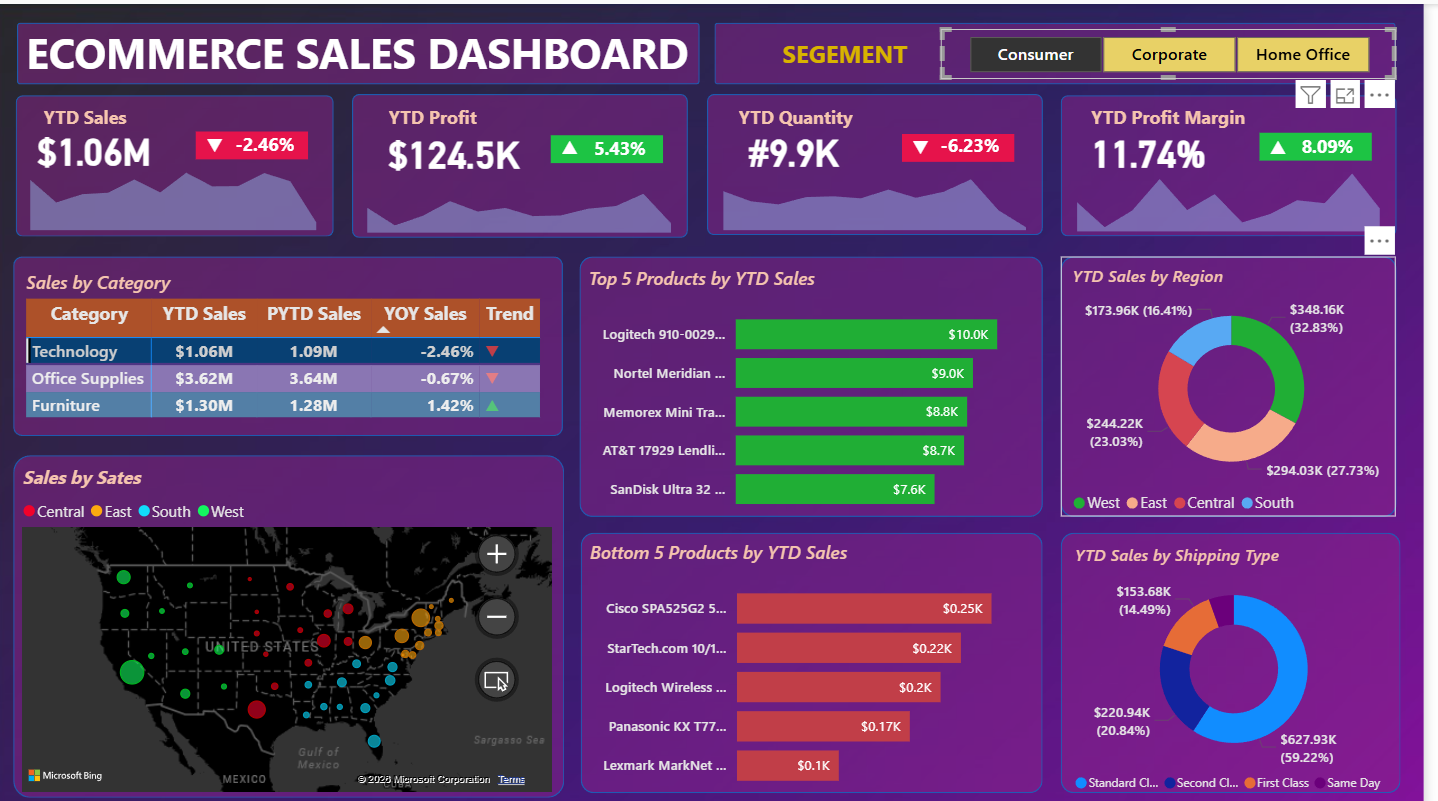

Layout of this report page (visuals, bound fields, positions):
{"tool":"powerbi","page":{"name":"Page 1","canvas":[1280,720],"ordinal":0},"visuals":[{"type":"shape","box":[26.9,17.1,607.9,54.9],"z":0},{"type":"textbox","box":[30.5,13.4,628.7,64.7],"z":1000},{"type":"shape","box":[26,81.8,283.1,126],"z":2000},{"type":"card","fields":{"Values":["ecommerce_data.YTD Sales"]},"box":[30.5,102.5,130.6,53.7],"z":3000},{"type":"areaChart","fields":{"Category":["Calendar.Month"],"Y":["Sum(ecommerce_data.sales_per_order)"]},"box":[24.4,135.5,283.2,70.8],"z":4000},{"type":"shape","box":[186,114,100,24.4],"z":5000},{"type":"card","fields":{"Values":["ecommerce_data.YOY Sales"]},"box":[209.3,114,76.7,28],"z":6000},{"type":"card","fields":{"Values":["ecommerce_data.Sales Icon"]},"box":[164.8,112.3,76.9,29.3],"z":7000},{"type":"textbox","box":[45.2,84.2,101.3,31.7],"z":8000},{"type":"shape","box":[640.9,80.6,299.1,125.7],"z":9000},{"type":"card","fields":{"Values":["ecommerce_data.YTD Concatenated Qty"]},"box":[648.2,105,141.6,52.5],"z":10000},{"type":"areaChart","fields":{"Category":["Calendar.Month"],"Y":["Sum(ecommerce_data.order_quantity)"]},"box":[640.9,135.5,299.1,70.8],"z":11000},{"type":"shape","box":[814.3,115.3,100,24.4],"z":12000},{"type":"card","fields":{"Values":["ecommerce_data.YOY Qty"]},"box":[837.4,113.5,76.9,28.1],"z":13000},{"type":"card","fields":{"Values":["ecommerce_data.Qty Icon"]},"box":[793.4,114.7,75.7,29.3],"z":14000},{"type":"textbox","box":[664.5,84.4,129,31.4],"z":15000},{"type":"shape","box":[955.8,81.8,299.1,125.7],"z":16000},{"type":"areaChart","fields":{"Category":["Calendar.Month"],"Y":["ecommerce_data.Profit Margin"]},"box":[955.8,136.7,299.1,70.8],"z":17000},{"type":"shape","box":[1132.8,114.7,100.1,24.4],"z":18000},{"type":"card","fields":{"Values":["ecommerce_data.YOY Profit Margin"]},"box":[1156,114.7,76.9,26.9],"z":19000},{"type":"card","fields":{"Values":["ecommerce_data.Profit Margin Icon"]},"box":[1112,114.7,75.7,29.3],"z":20000},{"type":"textbox","box":[979,84.2,167.2,31.7],"z":21000},{"type":"card","fields":{"Values":["ecommerce_data.YTD Profit Margin"]},"box":[964.3,105,140.4,53.7],"z":22000},{"type":"shape","box":[23.2,224.6,489.5,159.9],"z":23000},{"type":"shape","box":[324.7,80.6,299.1,128.2],"z":24000},{"type":"card","fields":{"Values":["ecommerce_data.YTD Profit"]},"box":[334.5,106.2,163.6,53.7],"z":25000},{"type":"areaChart","fields":{"Category":["Calendar.Month"],"Y":["Sum(ecommerce_data.profit_per_order)"]},"box":[323.5,137.9,300.3,70.8],"z":26000},{"type":"shape","box":[501.8,116.4,100,24.4],"z":27000},{"type":"card","fields":{"Values":["ecommerce_data.YOY Profit"]},"box":[525,116.4,76.7,27.9],"z":28000},{"type":"card","fields":{"Values":["ecommerce_data.Profit Icon"]},"box":[480.7,114.7,76.9,29.3],"z":29000},{"type":"textbox","box":[352.8,84.2,101.3,34.2],"z":30000},{"type":"pivotTable","title":"Sales by Category","fields":{"Rows":["ecommerce_data.category_name"],"Values":["ecommerce_data.YTD Sales","ecommerce_data.PYTD Sales","ecommerce_data.YOY Sales","ecommerce_data.Sales Icon"]},"box":[30.5,235.6,484.6,148.9],"z":31000},{"type":"shape","box":[23.2,401.6,490.7,305.2],"z":32000},{"type":"map","title":"Sales by Sates","fields":{"Y":["us_state_long_lat_codes.latitude"],"X":["us_state_long_lat_codes.longitude"],"Size":["ecommerce_data.YTD Sales"],"Series":["ecommerce_data.customer_region"]},"box":[26.9,410.1,482.2,296.6],"z":33000},{"type":"shape","box":[527.3,224.6,412.6,231.9],"z":34000},{"type":"shape","box":[528.6,471.2,411.4,231.9],"z":35000},{"type":"barChart","title":"Top 5 Products by YTD Sales","fields":{"Category":["ecommerce_data.product_name"],"Y":["ecommerce_data.YTD Sales"]},"box":[530.6,232.6,411.4,232.6],"z":36000},{"type":"barChart","title":"Bottom 5 Products by YTD Sales","fields":{"Category":["ecommerce_data.product_name"],"Y":["ecommerce_data.YTD Sales"]},"box":[532,476.8,411.4,235.5],"z":37000},{"type":"shape","box":[955.8,224.6,299.1,231.9],"z":38000},{"type":"shape","box":[648.2,17.1,606.7,54.9],"z":39000},{"type":"shape","box":[955.8,471.2,302.7,231.9],"z":40000},{"type":"donutChart","title":"YTD Sales by Region","fields":{"Y":["ecommerce_data.YTD Sales"],"Category":["ecommerce_data.customer_region"]},"box":[961.9,231.9,293,231.9],"z":41000},{"type":"donutChart","title":"YTD Sales by Shipping Type","fields":{"Y":["ecommerce_data.YTD Sales"],"Category":["ecommerce_data.shipping_type"]},"box":[964.3,479.7,293,231.9],"z":42000},{"type":"slicer","fields":{"Values":["ecommerce_data.customer_segment"]},"box":[849.6,22,405.3,45.2],"z":43000},{"type":"textbox","box":[703.1,24.4,146.5,47.6],"z":44000}]}

Visuals, with their boxes in screenshot pixels (x1, y1, x2, y2), scaled from the page's 1280x720 canvas onto the 1438x801 screenshot:
shape: 30:19:713:80
textbox: 34:15:741:87
shape: 29:91:347:231
card - ecommerce_data.YTD Sales: 34:114:181:174
areaChart - Calendar.Month x Sum(ecommerce_data.sales_per_order): 27:151:346:230
shape: 209:127:321:154
card - ecommerce_data.YOY Sales: 235:127:321:158
card - ecommerce_data.Sales Icon: 185:125:272:158
textbox: 51:94:165:129
shape: 720:90:1056:230
card - ecommerce_data.YTD Concatenated Qty: 728:117:887:175
areaChart - Calendar.Month x Sum(ecommerce_data.order_quantity): 720:151:1056:230
shape: 915:128:1027:155
card - ecommerce_data.YOY Qty: 941:126:1027:158
card - ecommerce_data.Qty Icon: 891:128:976:160
textbox: 747:94:891:129
shape: 1074:91:1410:231
areaChart - Calendar.Month x ecommerce_data.Profit Margin: 1074:152:1410:231
shape: 1273:128:1385:155
card - ecommerce_data.YOY Profit Margin: 1299:128:1385:158
card - ecommerce_data.Profit Margin Icon: 1249:128:1334:160
textbox: 1100:94:1288:129
card - ecommerce_data.YTD Profit Margin: 1083:117:1241:177
shape: 26:250:576:428
shape: 365:90:701:232
card - ecommerce_data.YTD Profit: 376:118:560:178
areaChart - Calendar.Month x Sum(ecommerce_data.profit_per_order): 363:153:701:232
shape: 564:129:676:157
card - ecommerce_data.YOY Profit: 590:129:676:161
card - ecommerce_data.Profit Icon: 540:128:626:160
textbox: 396:94:510:132
"Sales by Category" pivotTable: 34:262:579:428
shape: 26:447:577:786
"Sales by Sates" map: 30:456:572:786
shape: 592:250:1056:508
shape: 594:524:1056:782
"Top 5 Products by YTD Sales" barChart: 596:259:1058:518
"Bottom 5 Products by YTD Sales" barChart: 598:530:1060:792
shape: 1074:250:1410:508
shape: 728:19:1410:80
shape: 1074:524:1414:782
"YTD Sales by Region" donutChart: 1081:258:1410:516
"YTD Sales by Shipping Type" donutChart: 1083:534:1412:792
slicer - ecommerce_data.customer_segment: 954:24:1410:75
textbox: 790:27:954:80
